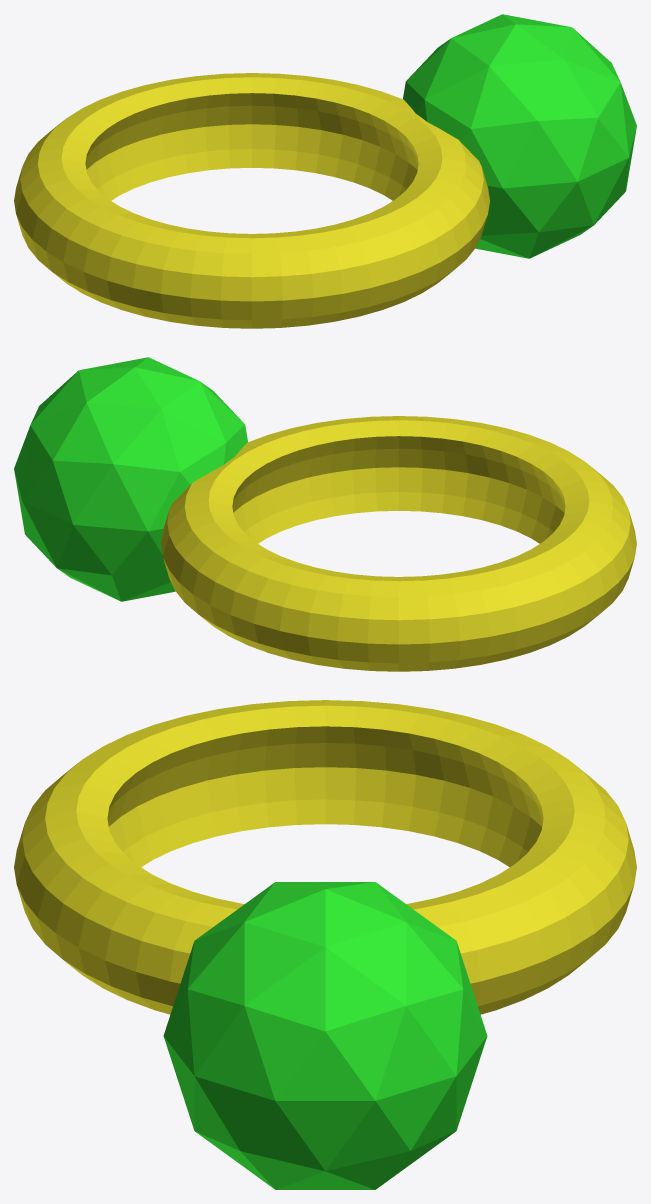
Rendered from GreenRing.fbx.
The picture shows the model from 3 angles, top to bottom: view 1: azimuth 30°, elevation 25°; view 2: azimuth 150°, elevation 25°; view 3: azimuth 270°, elevation 25°; orthographic projection. The views are drawn at different scales.
Visible parts, largest first — view 1: Torus, Icosphere; view 2: Torus, Icosphere; view 3: Torus, Icosphere.
Boxes of the visible parts, x1,y1,x2,y2 form: Torus: (14,73,489,328); Icosphere: (403,14,636,258); Torus: (161,416,636,671); Icosphere: (14,357,247,601); Torus: (14,700,636,1014); Icosphere: (163,882,487,1189).
Bounding box in the file's own units: 347 × 130 × 250.
